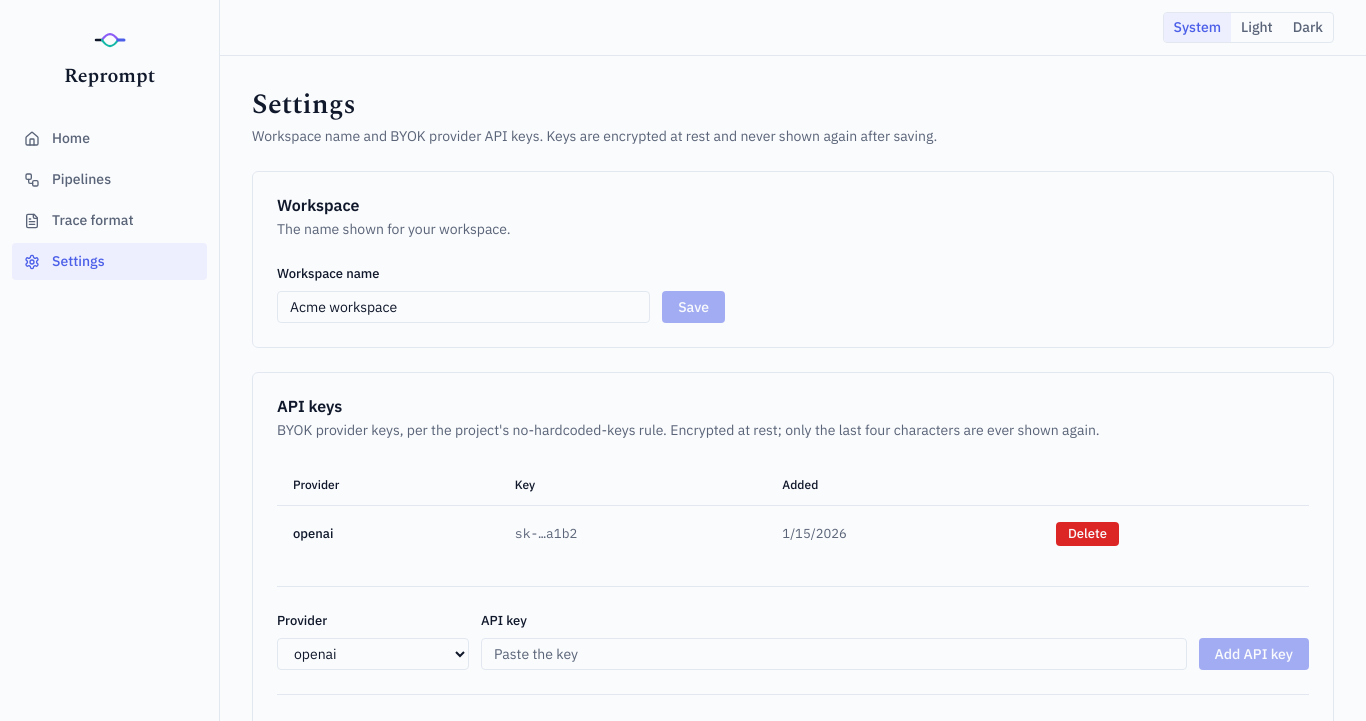
Test: Settings › deletes an API key
The width and height of the screenshot is (1366, 721).
Expected: the cell "openai" is shown, [277,506,499,562]
Click the button with aria-label "Delete openai key". click: click(1087, 534)
box: [1056,522,1119,546]
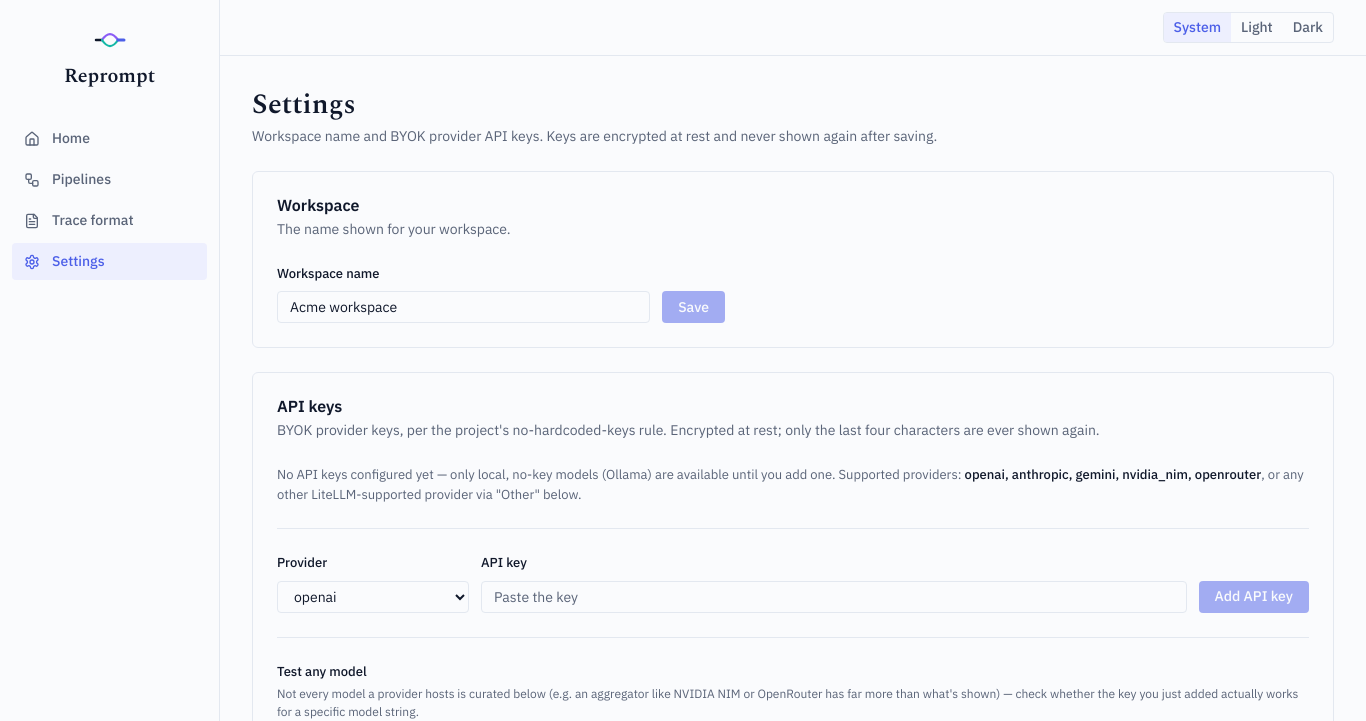
Expected: the text "No API keys configured yet" is shown, [277,466,962,484]
